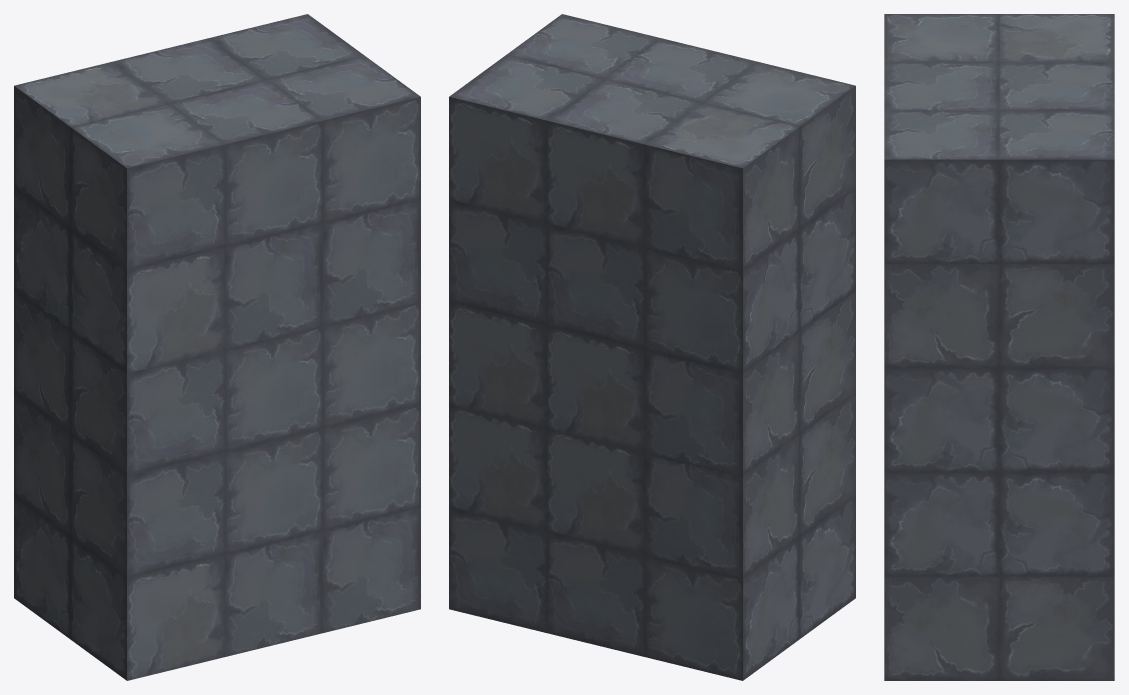
The model's file is Castle Block 3x2x5.fbx.
The picture shows the model from 3 angles, left to right: view 1: azimuth 30°, elevation 25°; view 2: azimuth 150°, elevation 25°; view 3: azimuth 270°, elevation 25°; orthographic projection.
Parts seen in each view (by area): view 1: Castle Block 3x2x5; view 2: Castle Block 3x2x5; view 3: Castle Block 3x2x5.
Part boxes in pixels (left/top/right/bottom): Castle Block 3x2x5: left=14, top=14, right=420, bottom=680; Castle Block 3x2x5: left=449, top=14, right=855, bottom=680; Castle Block 3x2x5: left=884, top=14, right=1114, bottom=680.
Size of the model in its own units: 2.25 by 3.75 by 1.5.
